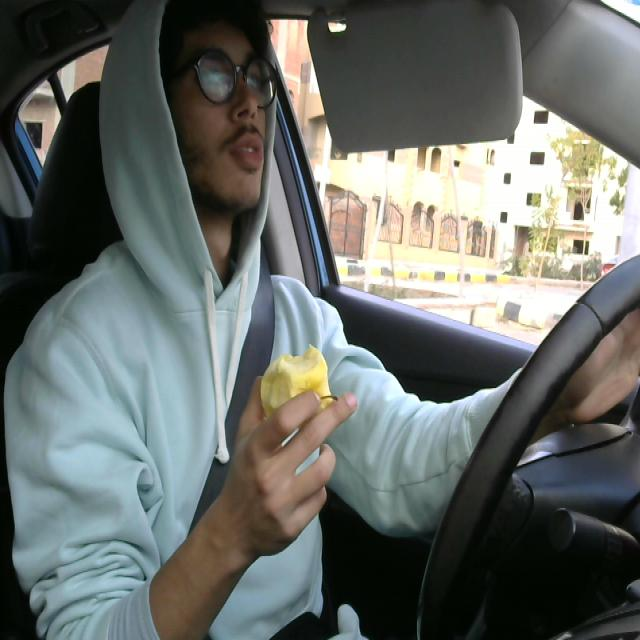eating: (257, 335, 337, 440)
